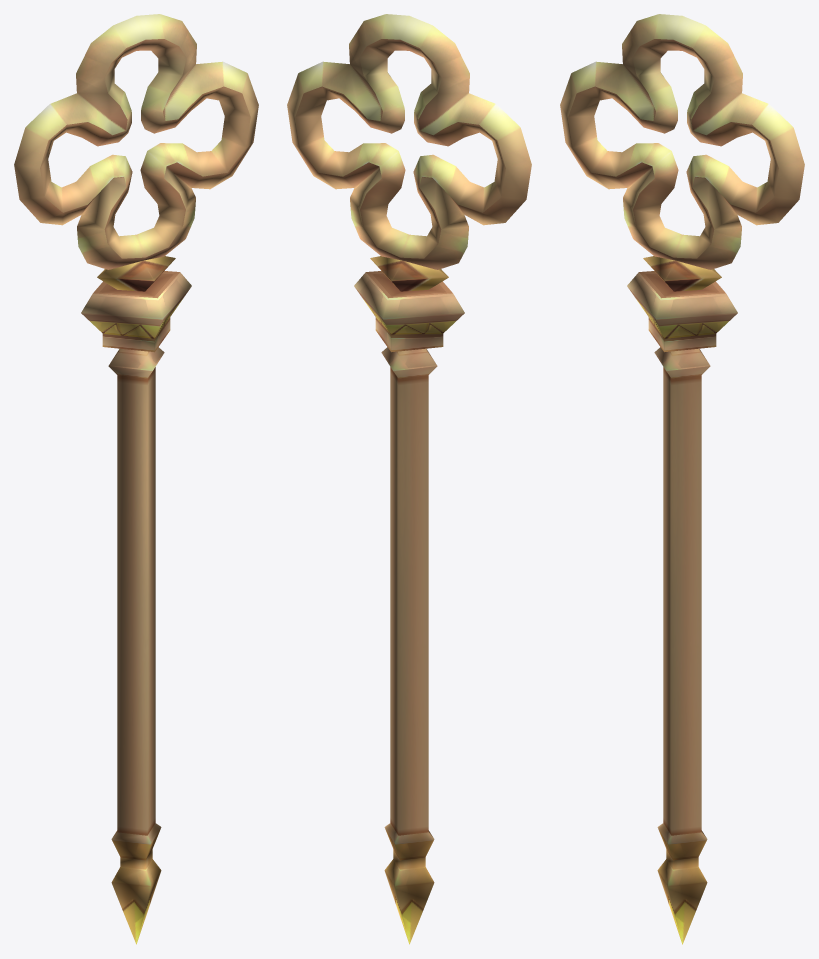
The model's file is weapon_acolyte_101.fbx.
The picture shows the model from 3 angles, left to right: view 1: azimuth 30°, elevation 25°; view 2: azimuth 150°, elevation 25°; view 3: azimuth 330°, elevation 25°; orthographic projection.
Parts seen in each view (by area): view 1: Hero_104B2_Acolyte_Weapon; view 2: Hero_104B2_Acolyte_Weapon; view 3: Hero_104B2_Acolyte_Weapon.
Boxes of the visible parts, x1,y1,x2,y2 form: Hero_104B2_Acolyte_Weapon: (14, 14, 258, 944); Hero_104B2_Acolyte_Weapon: (287, 14, 531, 944); Hero_104B2_Acolyte_Weapon: (560, 14, 804, 944).
Bounding box in the file's own units: 38.32 × 139 × 14.38.
